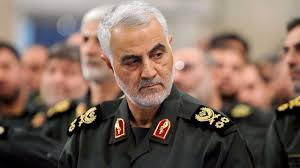middle_eastern_male: (110, 19, 181, 110)
